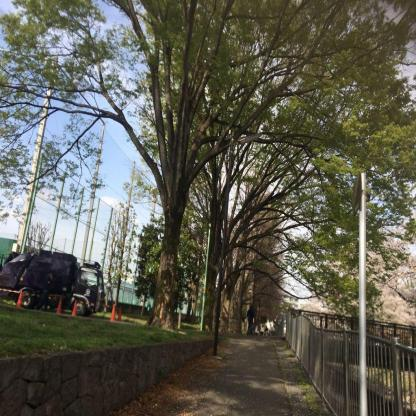Someiyoshino: (322, 211, 416, 334)
